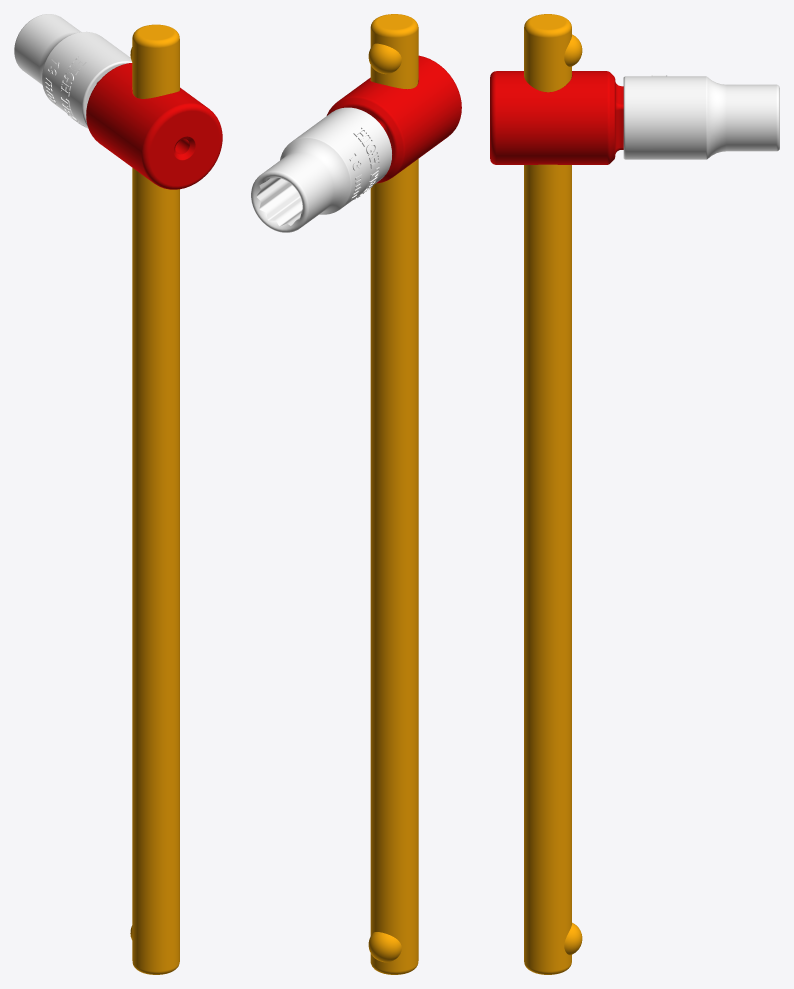
File: box_spanner.fbx
3 renders of one model, left to right at view 1: azimuth 30°, elevation 25°; view 2: azimuth 150°, elevation 25°; view 3: azimuth 270°, elevation 25°, orthographic.
Visible parts, largest first — view 1: Brep_1, Brep_1_1, Brep_1_2; view 2: Brep_1, Brep_1_2, Brep_1_1; view 3: Brep_1, Brep_1_2, Brep_1_1.
Part boxes in pixels (bbox=[...]): Brep_1: bbox=[130, 24, 179, 974]; Brep_1_1: bbox=[86, 63, 222, 189]; Brep_1_2: bbox=[14, 14, 132, 128]; Brep_1: bbox=[368, 14, 418, 974]; Brep_1_2: bbox=[251, 107, 391, 232]; Brep_1_1: bbox=[326, 55, 461, 183]; Brep_1: bbox=[524, 14, 582, 974]; Brep_1_2: bbox=[623, 75, 779, 159]; Brep_1_1: bbox=[490, 71, 623, 164].
Bounding box in the file's own units: 4.5 × 50 × 13.9.
